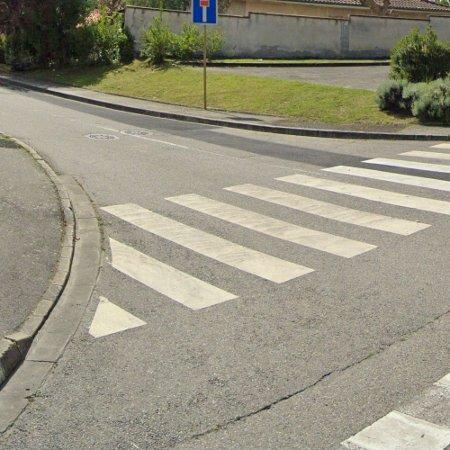crosswalks: (87, 138, 450, 343)
